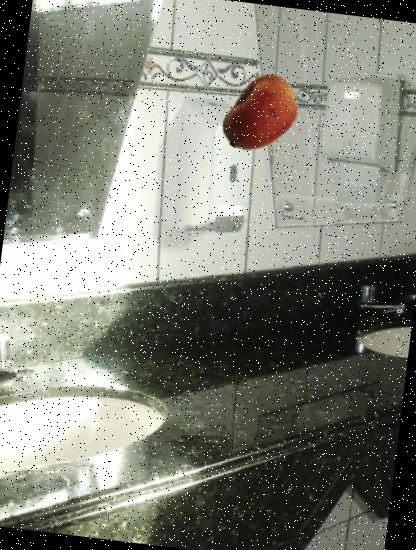Nectarine: (214, 67, 310, 163)
